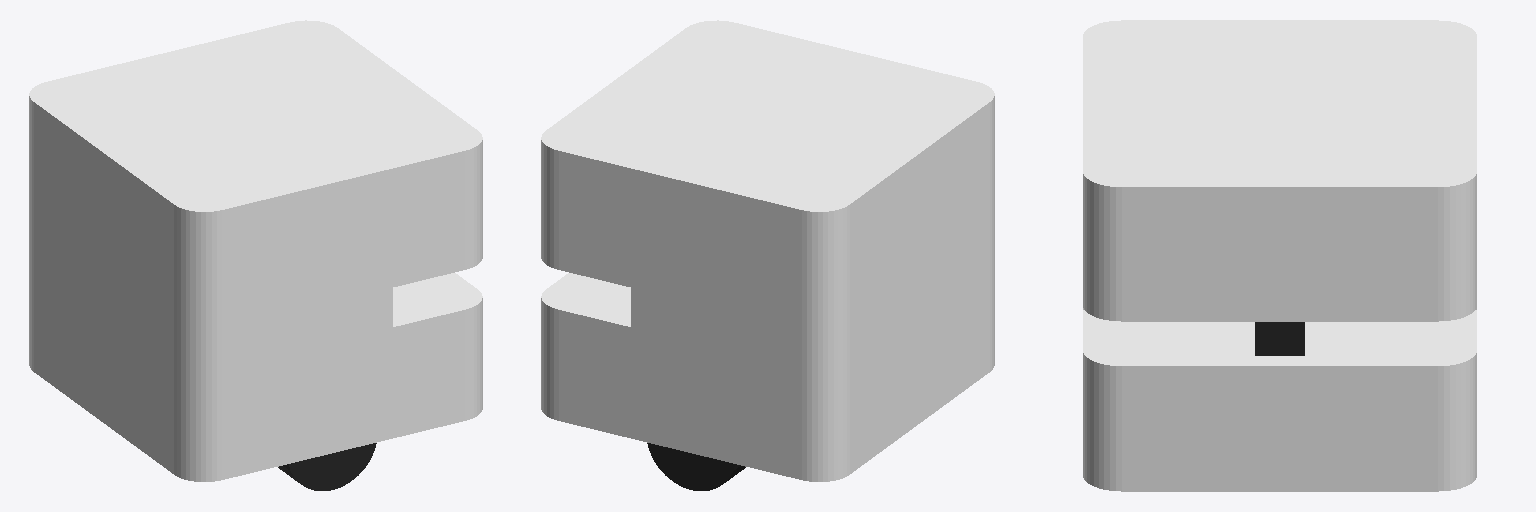
robot.urdf — mobile_platform:
<?xml version="1.0" ?>
<robot name="mobile_platform" xmlns:controller="http://playerstage.sourceforge.net/gazebo/xmlschema/#controller" xmlns:interface="http://playerstage.sourceforge.net/gazebo/xmlschema/#interface" xmlns:sensor="http://playerstage.sourceforge.net/gazebo/xmlschema/#sensor" xmlns:xacro="http://ros.org/wiki/xacro">
    <material name="Black">
        <color rgba="0.2 0.2 0.2 1.0"/>
    </material>
    <material name="White">
        <color rgba="1.0 1.0 1.0 1.0"/>
    </material>
    <material name="DarkGrey">
        <color rgba="0.3 0.3 0.3 1.0"/>
    </material>

    <link name="base_link">
        <inertial>
            <origin rpy="0 0 1.5707963" xyz="-0.2 0 0"/>
            <mass value="36"/>
            <inertia ixx="8.268e-3" ixy="0" ixz="0" iyy="8.268e-3" iyz="0" izz="9.6e-3"/>
        </inertial>
        <visual>
            <origin rpy="0 0 1.5707963" xyz="0 -0.2 0"/>
            <geometry>
                <mesh filename="package://platform_description/meshes/car.STL" scale="0.001 0.001 0.001"/>
            </geometry>
            <material name="White"/>
        </visual>
        <collision>
            <origin rpy="0 0 1.5707963" xyz="0 -0.2 0"/>
            <geometry>
                <mesh filename="package://platform_description/meshes/car.STL" scale="0.001 0.001 0.001"/>
            </geometry>
        </collision>
    </link>

    <link name="base_left_wheel_link">
        <inertial>
            <origin xyz="0 0 0"/>
            <mass value="2"/>
            <inertia ixx="4.82e-4" ixy="0" ixz="0" iyy="4.82e-4" iyz="0" izz="4.82e-4"/>
        </inertial>
        <visual>
            <origin rpy="0 0 0" xyz="0 0 0"/>
            <geometry>
                <cylinder length="0.05" radius="0.06"/>
            </geometry>
            <material name="Black"/>
        </visual>
        <collision>
            <origin rpy="0 0 0" xyz="0 0 0"/>
            <geometry>
                <cylinder length="0.05" radius="0.06"/>
            </geometry>
        </collision>
    </link>
    <joint name="left_wheel_joint" type="continuous">
        <origin rpy="-1.5707963 0 0" xyz="-0.2 0.15 0"/>
        <parent link="base_link"/>
        <child link="base_left_wheel_link"/>
        <axis xyz="0 0 1"/>
        <limit effort="100" velocity="100"/>
    </joint>

    <link name="base_right_wheel_link">
        <inertial>
            <origin xyz="0 0 0"/>
            <mass value="2"/>
            <inertia ixx="4.82e-4" ixy="0" ixz="0" iyy="4.82e-4" iyz="0" izz="4.82e-4"/>
        </inertial>
        <visual>
            <origin rpy="0 0 0" xyz="0 0 0"/>
            <geometry>
                <cylinder length="0.05" radius="0.06"/>
            </geometry>
            <material name="Black"/>
        </visual>
        <collision>
            <origin rpy="0 0 0" xyz="0 0 0"/>
            <geometry>
                <cylinder length="0.05" radius="0.06"/>
            </geometry>
        </collision>
    </link>
    <joint name="right_wheel_joint" type="continuous">
        <origin rpy="-1.5707963 0 0" xyz="-0.2 -0.15 0"/>
        <parent link="base_link"/>
        <child link="base_right_wheel_link"/>
        <axis xyz="0 0 1"/>
        <limit effort="100" velocity="100"/>
    </joint>

    <link name="base_front_wheel_link">
        <collision>
            <origin rpy="0 0 0" xyz="0 0 0"/>
            <geometry>
                <sphere radius="0.03"/>
            </geometry>
        </collision>
    </link>
    <joint name="front_wheel" type="fixed">
        <origin rpy="0 0 0" xyz="0 0 -0.03"/>
        <parent link="base_link"/>
        <child link="base_front_wheel_link"/>
    </joint>

    <link name="base_back_wheel_link">
        <collision>
            <origin rpy="0 0 0" xyz="-0.05 0 0"/>
            <geometry>
                <sphere radius="0.03"/>
            </geometry>
        </collision>
    </link>
    <joint name="back_wheel" type="fixed">
        <origin rpy="0 0 0" xyz="-0.35 0 -0.03"/>
        <parent link="base_link"/>
        <child link="base_back_wheel_link"/>
    </joint>

   <link name="laser">
        <visual>
            <origin rpy="0 0 0" xyz="0 0 0"/>
            <geometry>
                <box size="0.05 0.05 0.05"/>
            </geometry>
            <material name="Black"/>
        </visual>
    </link>
    <joint name="top_t_laser" type="fixed">
        <origin rpy="0 0 0" xyz="-0.05 0 0.16"/>
        <parent link="base_link"/>
        <child link="laser"/>
    </joint>

</robot>

--- Facts derived from the render (not from the file) ---
Views: 3 orthographic renders of the robot side by side, from view 1: azimuth 30°, elevation 25°; view 2: azimuth 150°, elevation 25°; view 3: azimuth 270°, elevation 25°.
Model mobile_platform with 6 links and 5 joints (2 continuous, 3 fixed), rooted at base_link, posed every joint at zero.
Visible links, largest first — view 1: base_link, base_right_wheel_link; view 2: base_link, base_left_wheel_link; view 3: base_link, laser.
Boxes of the visible links, bbox=[...] form: base_link: bbox=[29, 20, 482, 481]; base_right_wheel_link: bbox=[278, 443, 376, 490]; base_link: bbox=[541, 20, 994, 481]; base_left_wheel_link: bbox=[647, 443, 745, 490]; base_link: bbox=[1083, 20, 1476, 491]; laser: bbox=[1255, 322, 1304, 355].
Bounding box of the posed robot: 0.4 × 0.4 × 0.4 m (x, y, z).
1 mesh visuals loaded from 1 distinct referenced files (1 binary STL).